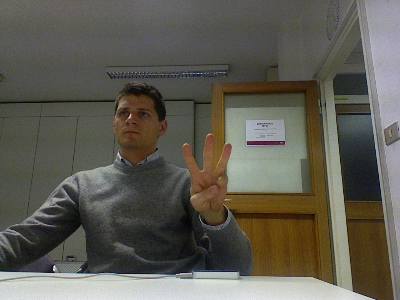三分: (181, 133, 232, 214)
